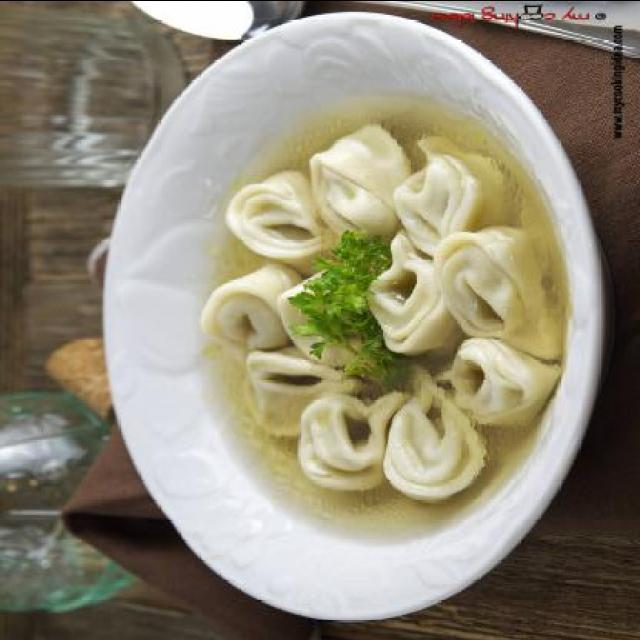Tortellini in broth: (175, 100, 543, 492)
